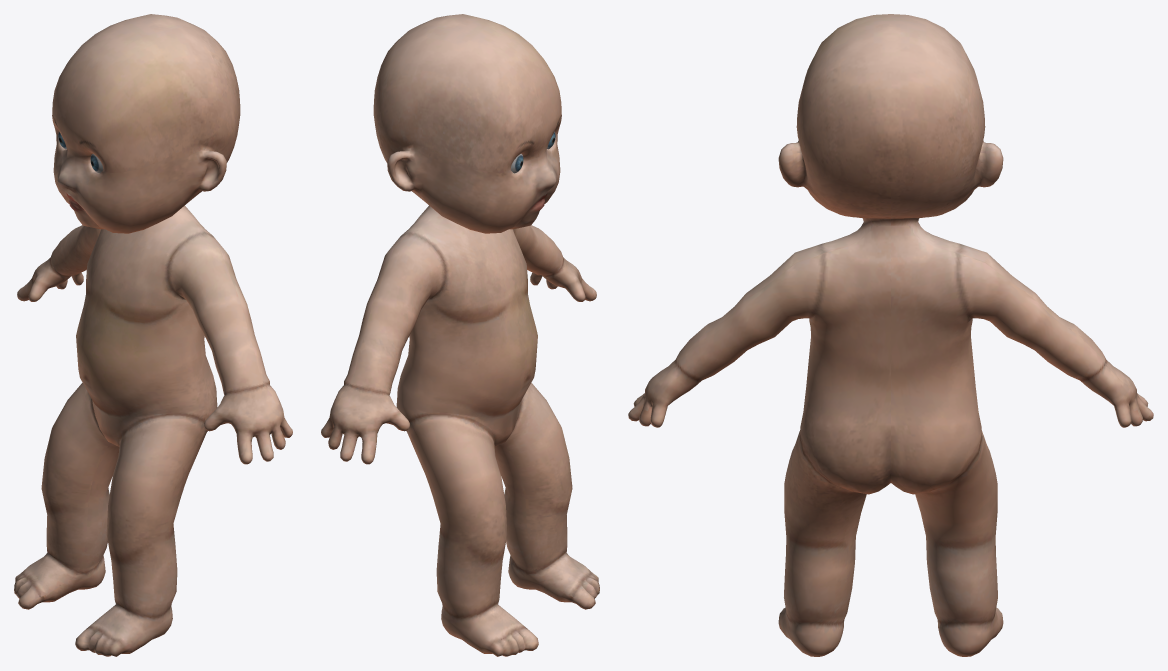
File: SM_BabyDoll_3.fbx
The picture shows the model from 3 angles, left to right: view 1: azimuth 30°, elevation 25°; view 2: azimuth 150°, elevation 25°; view 3: azimuth 270°, elevation 25°; orthographic projection. The views are drawn at different scales.
Parts seen in each view (by area): view 1: SM_BabyDoll_3; view 2: SM_BabyDoll_3; view 3: SM_BabyDoll_3.
Part boxes in pixels (left/top/right/bottom): SM_BabyDoll_3: left=14, top=14, right=292, bottom=656; SM_BabyDoll_3: left=321, top=14, right=599, bottom=656; SM_BabyDoll_3: left=628, top=14, right=1153, bottom=656.
Size of the model in its own units: 7.92 by 17.89 by 24.45.
Materials: 1 (1 with a texture image).
